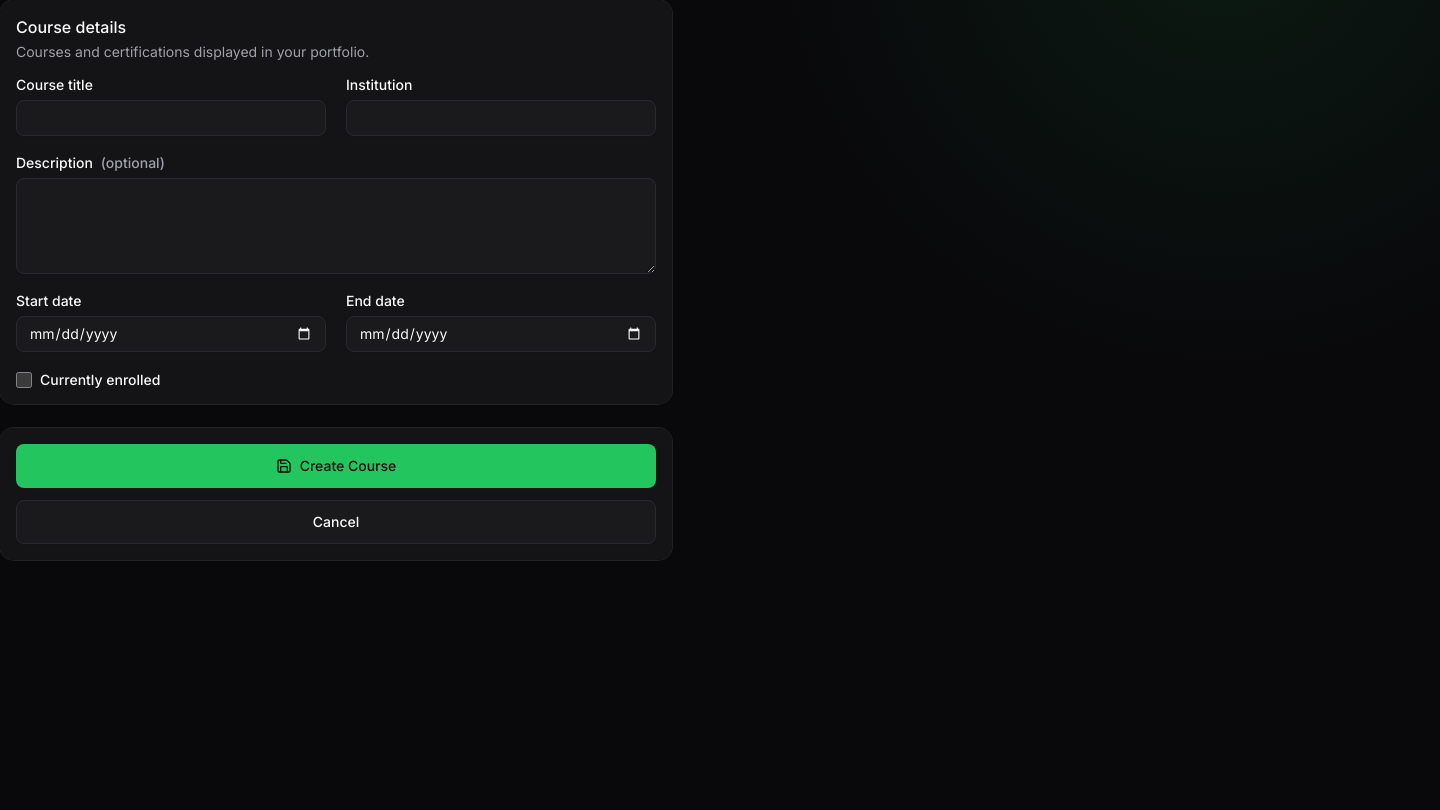
Test: CourseForm › blocks submission when title is empty
Click the button "Create Course" at (336, 466), box [16,444,656,488]
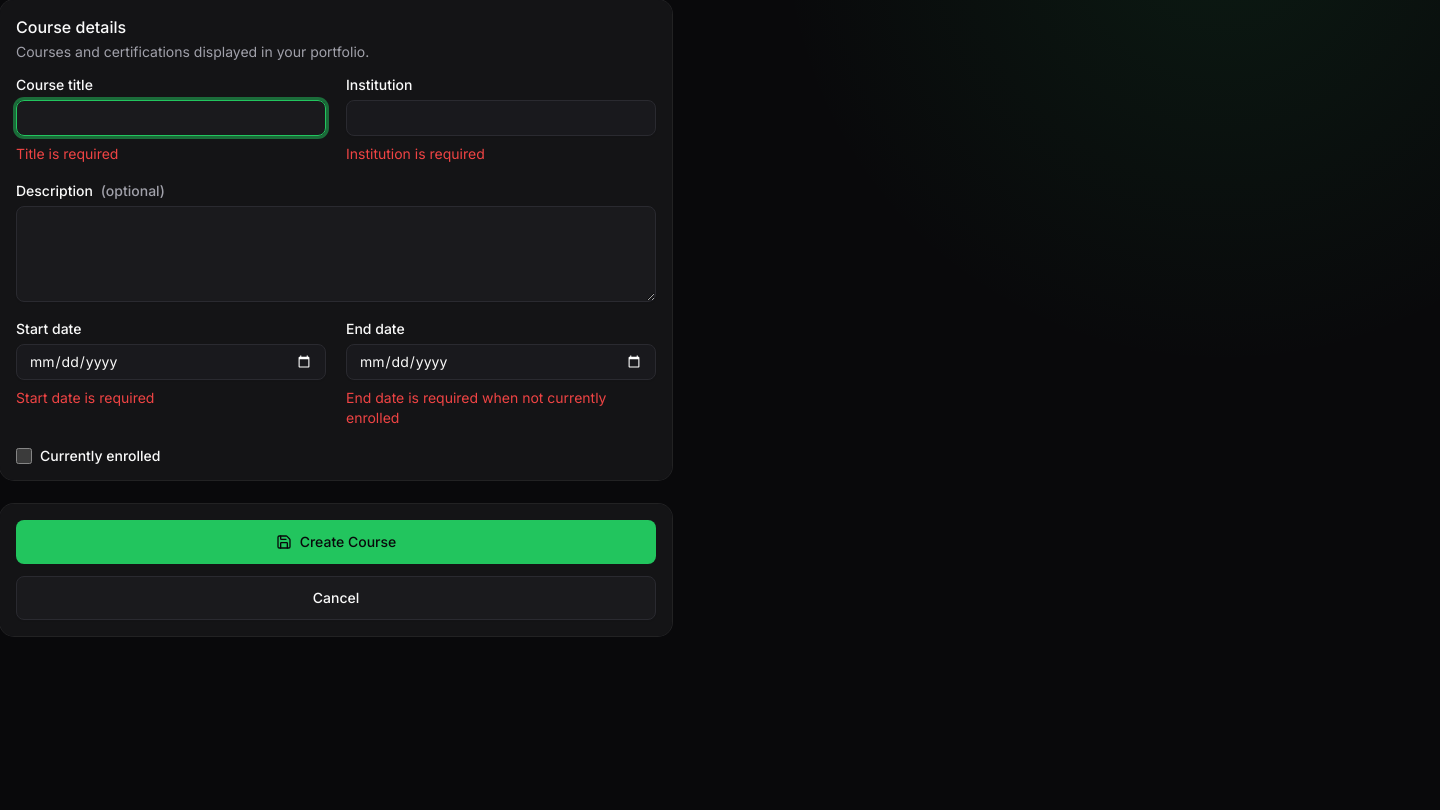
Check: the text "Title is required" is shown, box [16,145,118,162]
